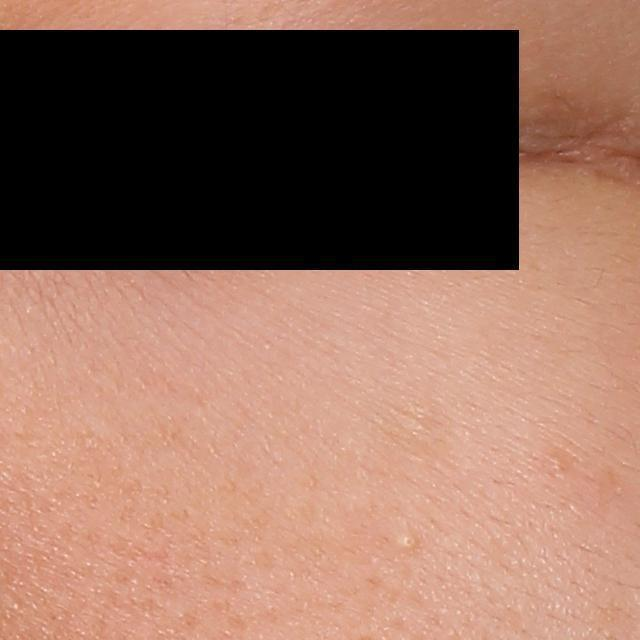comedo: (394, 530, 422, 551)
